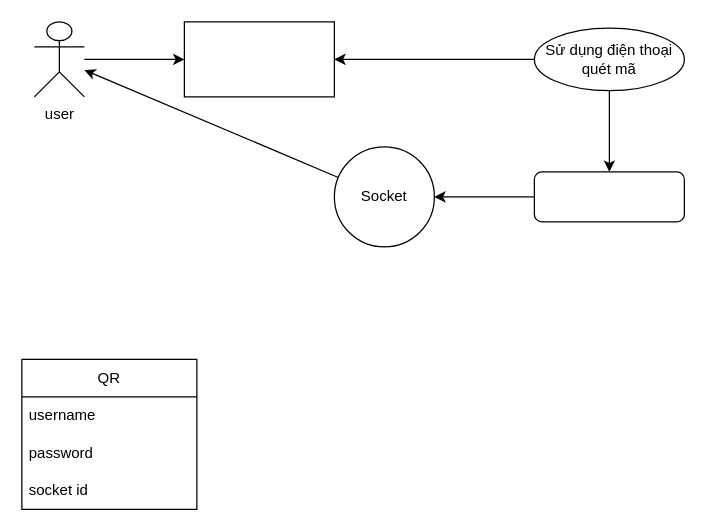
Image size: 706x531. Some labels were removed from this diagram. The shapes that lost their labels are listed below. From the top down, each one's centre as x and y in pixels, then its label:
At point (258, 59): "tạo qr với username và password".
At point (608, 196): "Mobile gửi tín hiệu đến client".
